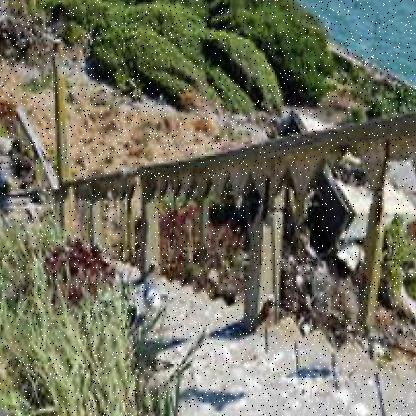stair_down: (160, 278, 331, 413)
